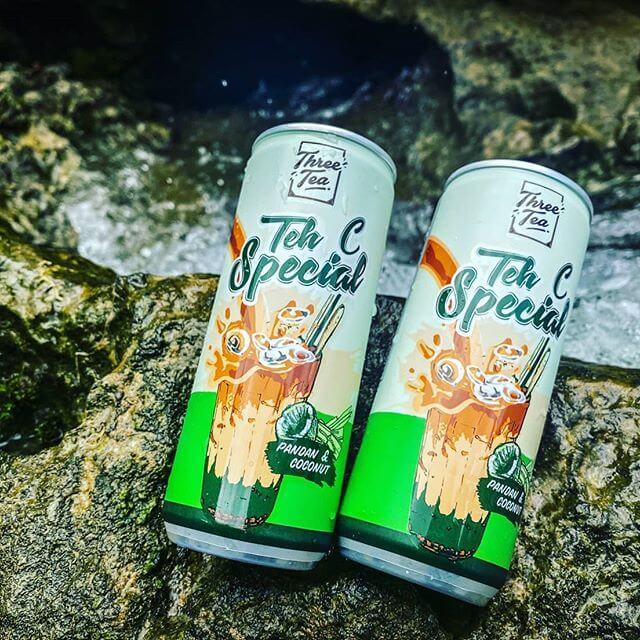metal: (334, 155, 594, 619), (160, 116, 399, 583)
